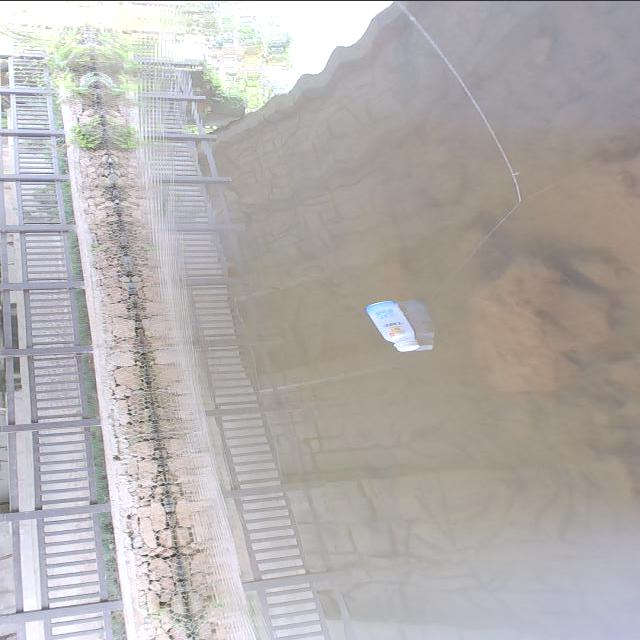bottle: (343, 286, 444, 369)
